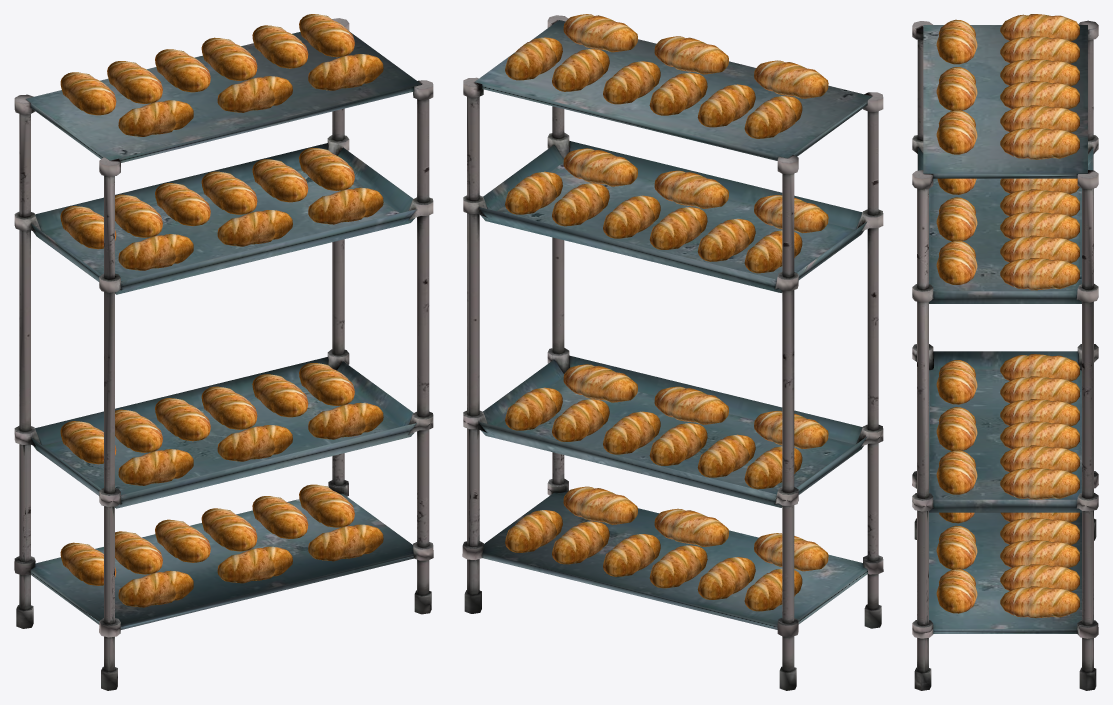
The model's file is tiem-banh-ke.glb.
The picture shows the model from 3 angles, left to right: view 1: azimuth 30°, elevation 25°; view 2: azimuth 150°, elevation 25°; view 3: azimuth 270°, elevation 25°; orthographic projection. The views are drawn at different scales.
Parts seen in each view (by area): view 1: tiem-banh-ke; view 2: tiem-banh-ke; view 3: tiem-banh-ke.
Part boxes in pixels (x1=…): tiem-banh-ke: x1=14, y1=14, x2=433, y2=690; tiem-banh-ke: x1=462, y1=14, x2=883, y2=690; tiem-banh-ke: x1=912, y1=14, x2=1098, y2=690.
Size of the model in its own units: 4.01 by 6.38 by 2.
Materials: 2 (2 with a texture image).
